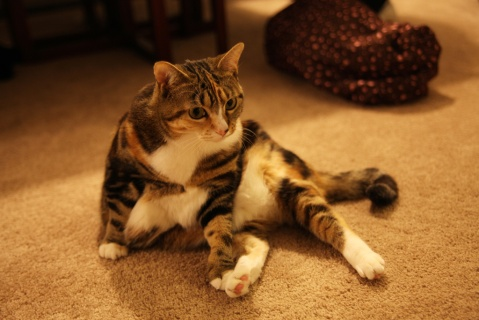Cat: (92, 43, 401, 303)
